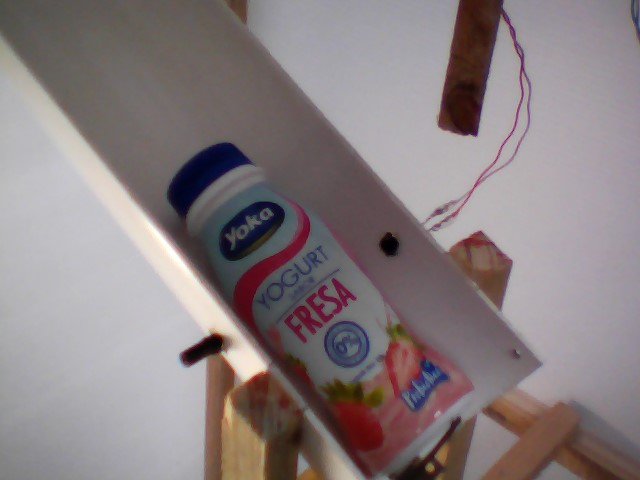plastico: (156, 140, 492, 480)
